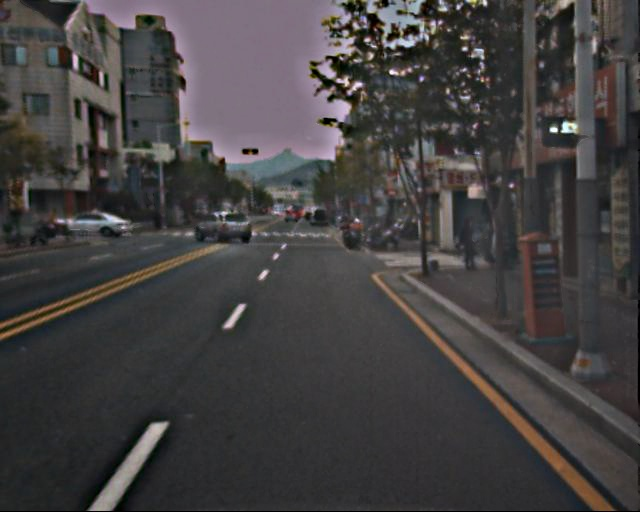person: (458, 215, 481, 270)
